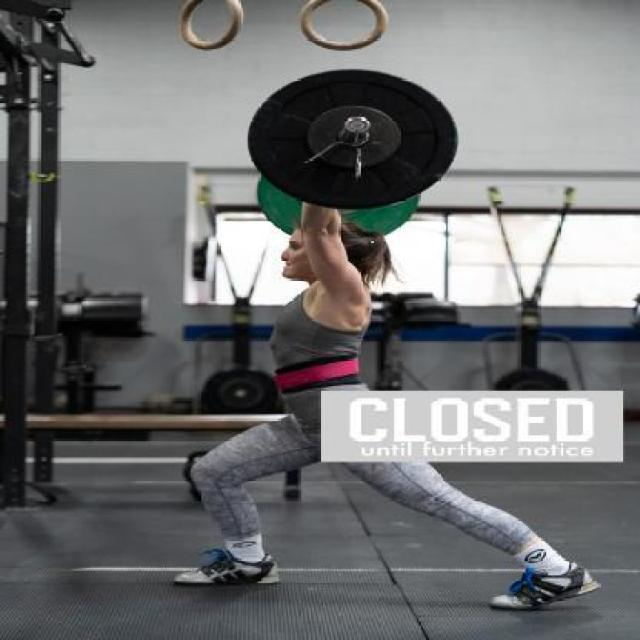barbell: (243, 68, 462, 216)
